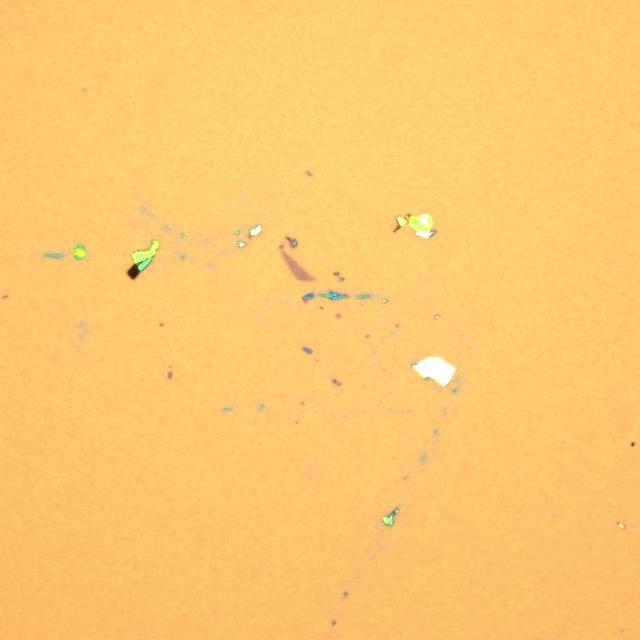monolayer-eWW4: (281, 246, 317, 282)
